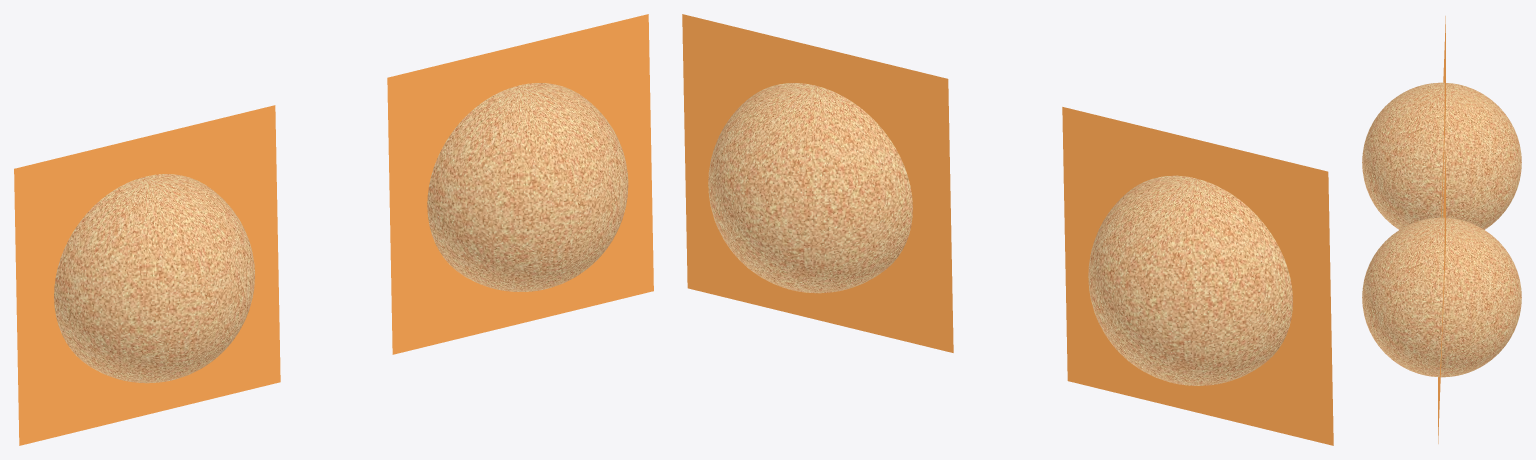
Rendered from star.glb.
3 views of the same model, side by side, from view 1: azimuth 30°, elevation 25°; view 2: azimuth 150°, elevation 25°; view 3: azimuth 270°, elevation 25° (orthographic). The views are drawn at different scales.
Visible parts, largest first — view 1: HaloRef, HaloMeasure, Measure, Sol de referência; view 2: HaloRef, HaloMeasure, Measure, Sol de referência; view 3: Measure, Sol de referência, HaloMeasure, HaloRef.
Part boxes in pixels (<box>): HaloRef: <box>14,105,280,445</box>; HaloMeasure: <box>387,14,653,354</box>; Measure: <box>427,83,628,291</box>; Sol de referência: <box>54,174,254,383</box>; HaloRef: <box>1062,107,1333,445</box>; HaloMeasure: <box>682,14,953,352</box>; Measure: <box>708,83,912,293</box>; Sol de referência: <box>1088,175,1292,385</box>; Measure: <box>1362,217,1521,377</box>; Sol de referência: <box>1362,82,1521,229</box>; HaloMeasure: <box>1438,151,1445,443</box>; HaloRef: <box>1441,16,1445,217</box>.
Size of the model in its own units: 4.9 by 2.01 by 1.44.
Materials: 2 (2 with a texture image).
